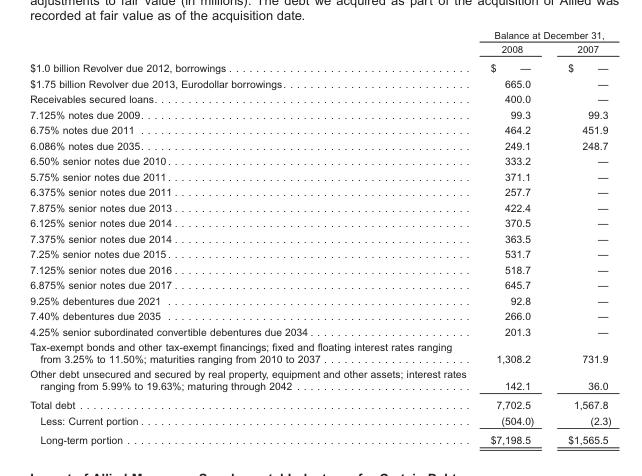table: (29, 28, 610, 445)
table column: (29, 28, 477, 445), (477, 28, 550, 445), (550, 28, 610, 445)
table column header: (29, 28, 610, 57)
table row: (29, 365, 610, 395), (29, 338, 610, 365), (29, 57, 610, 75), (29, 395, 610, 412), (29, 412, 610, 429), (29, 41, 610, 57), (29, 90, 610, 106), (29, 121, 610, 137), (29, 152, 610, 168), (29, 183, 610, 199), (29, 214, 610, 230), (29, 245, 610, 261), (29, 276, 610, 292), (29, 307, 610, 323), (29, 429, 610, 445), (29, 75, 610, 90), (29, 106, 610, 121), (29, 137, 610, 152), (29, 168, 610, 183), (29, 199, 610, 214), (29, 230, 610, 245), (29, 261, 610, 276), (29, 292, 610, 307), (29, 323, 610, 338), (29, 28, 610, 41)
table spanning cell: (477, 28, 610, 41)
